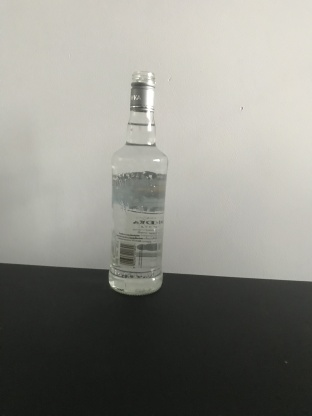nakretka: (128, 69, 157, 115)
